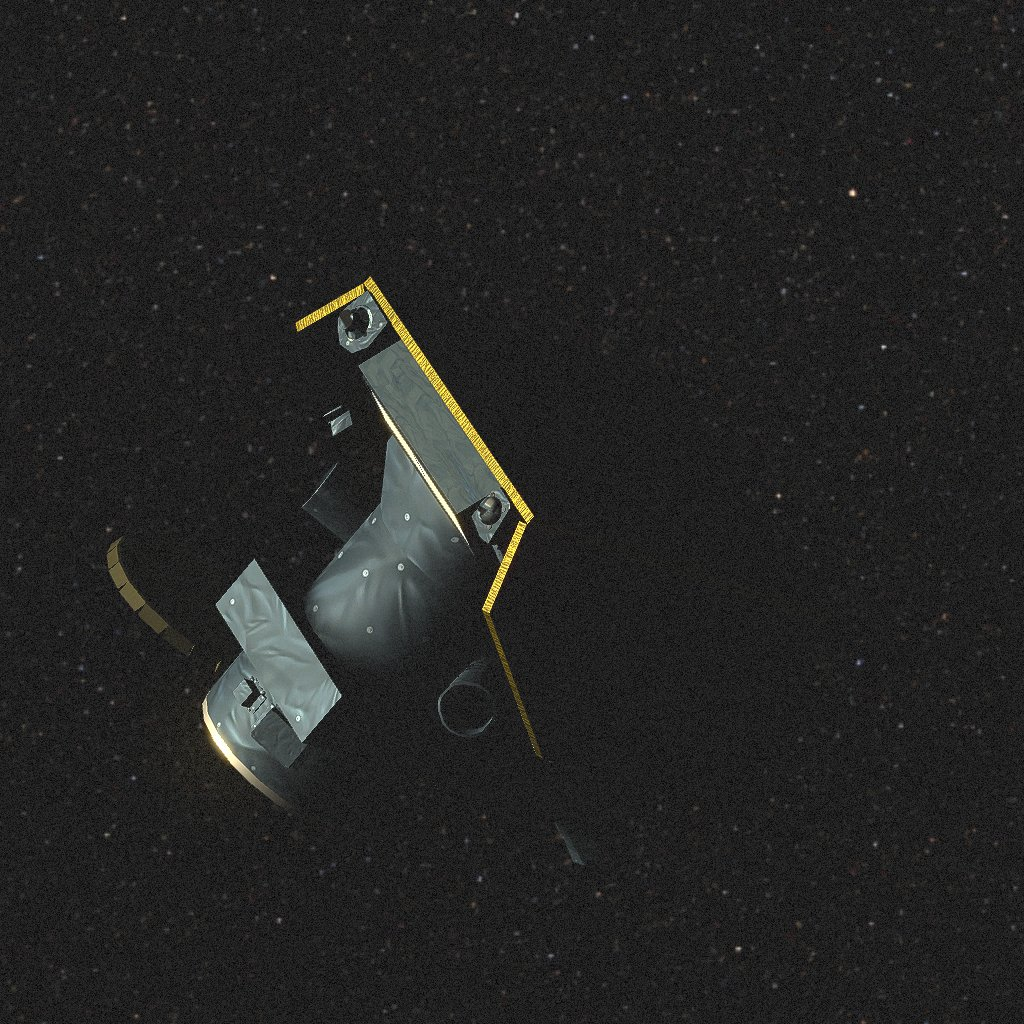cheops: (107, 276, 835, 865)
